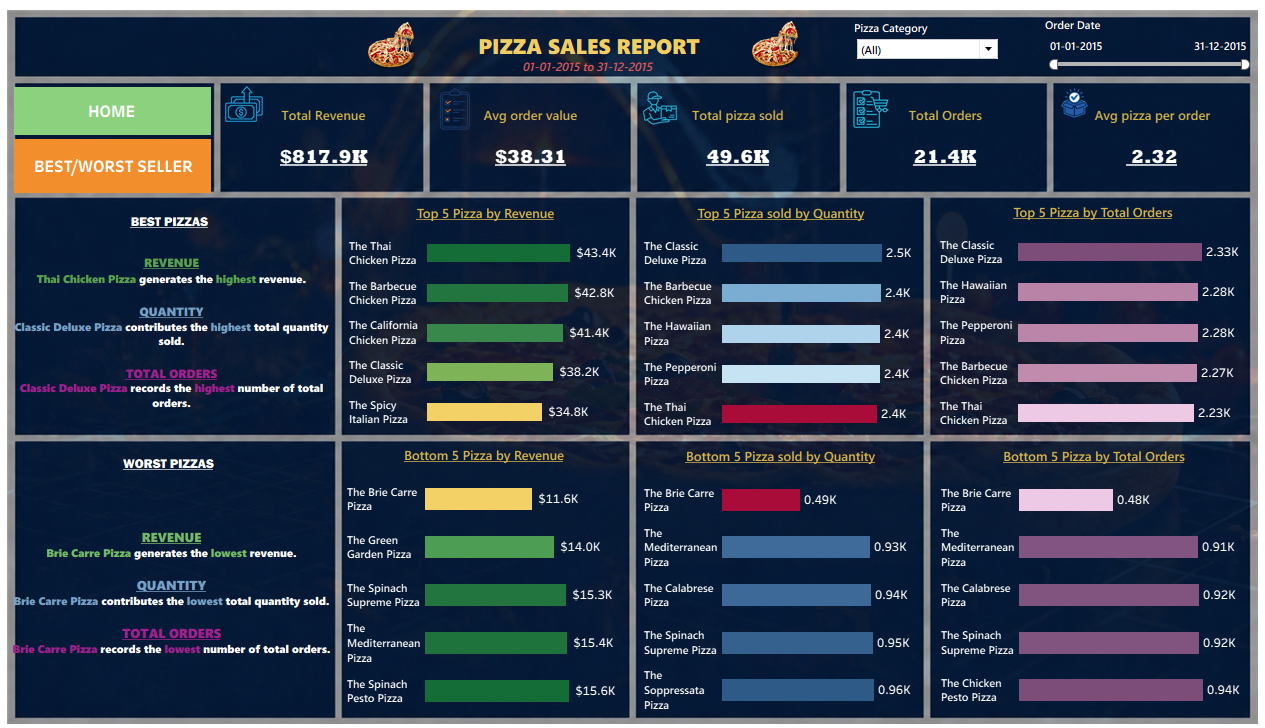

The dashboard page shown, as its layout file describes it:
{"tool":"powerbi","page":{"name":"BEST/WORST","canvas":[1500,820],"ordinal":1},"visuals":[{"type":"shape","box":[11.3,101.6,333.9,717.7],"z":0},{"type":"cardVisual","fields":{"Data":["pizza_sales.Total Revenue","pizza_sales.Total Orders","pizza_sales.Total pizza sold","pizza_sales.Avg order value","pizza_sales.Avg pizza per order"]},"box":[343.3,101.7,1143.3,205],"z":1000},{"type":"shape","box":[20,13.3,1460,83.3],"z":2000},{"type":"textbox","box":[513.3,26.7,471.7,55],"z":3000},{"type":"textbox","box":[628.3,60,243.3,41.7],"z":4000},{"type":"image","box":[524.2,27.4,72.6,53.2],"z":5000},{"type":"image","box":[911.3,27.4,72.6,53.2],"z":6000},{"type":"shape","box":[343.5,306.5,385.5,250],"z":7000},{"type":"textbox","box":[19.4,222.6,316.1,43.5],"z":8000},{"type":"textbox","box":[21,266.1,316.1,251.6],"z":9000},{"type":"textbox","box":[21,517.7,316.1,43.5],"z":10000},{"type":"textbox","box":[21,556.5,314.5,250],"z":11000},{"type":"slicer","fields":{"Values":["pizza_sales.pizza_category"]},"box":[985.5,19.4,217.7,69.4],"z":12000},{"type":"slicer","fields":{"Values":["pizza_sales.order_date"]},"box":[1214.5,12.9,254.8,83.9],"z":13000},{"type":"shape","box":[729,306.5,385.5,250],"z":14000},{"type":"shape","box":[1114.5,306.5,385.5,250],"z":15000},{"type":"shape","box":[343.5,556.5,385.5,250],"z":16000},{"type":"shape","box":[729,556.5,385.5,250],"z":17000},{"type":"shape","box":[1114.5,556.5,385.5,250],"z":18000},{"type":"barChart","title":"Top 5 Best-Seller by Revenue","fields":{"Category":["pizza_sales.pizza_name"],"Y":["pizza_sales.Total Revenue"]},"box":[356.2,321.2,358.8,221.2],"z":19000},{"type":"barChart","title":"Bottom 5 Seller by Revenue","fields":{"Category":["pizza_sales.pizza_name"],"Y":["pizza_sales.Total Revenue"]},"box":[356.9,571,358.4,221.7],"z":20000},{"type":"barChart","title":"Top 5 Pizzas by Quantity","fields":{"Category":["pizza_sales.pizza_name"],"Y":["pizza_sales.Total pizza sold"]},"box":[741.2,320,358.8,221.2],"z":21000},{"type":"barChart","title":"Bottom 5 Pizzas by Quantity","fields":{"Category":["pizza_sales.pizza_name"],"Y":["pizza_sales.Total pizza sold"]},"box":[741.2,570,358.8,221.2],"z":22000},{"type":"barChart","title":"Top 5 Pizzas by Total Order","fields":{"Category":["pizza_sales.pizza_name"],"Y":["pizza_sales.Total pizza sold"]},"box":[1127.5,321.2,358.8,221.2],"z":23000},{"type":"barChart","title":"Bottom 5 Pizzas by Total Order","fields":{"Category":["pizza_sales.pizza_name"],"Y":["pizza_sales.Total pizza sold"]},"box":[1128.8,571.2,358.8,221.2],"z":24000},{"type":"pageNavigator","box":[21.3,173.1,312.8,50.1],"z":24001},{"type":"pageNavigator","box":[21.3,123,312.8,50.1],"z":24002},{"type":"shape","box":[264.2,173.1,69.9,50.1],"z":24003}]}

Visuals, with their boxes on the page's 1500x820 design canvas (x1, y1, x2, y2). These are canvas units, not pixel positions in the 1265x728 screenshot, which may show the page scaled, cropped or inside an application window:
shape: bbox(11, 102, 345, 819)
cardVisual - pizza_sales.Total Revenue x pizza_sales.Total Orders: bbox(343, 102, 1487, 307)
shape: bbox(20, 13, 1480, 97)
textbox: bbox(513, 27, 985, 82)
textbox: bbox(628, 60, 872, 102)
image: bbox(524, 27, 597, 81)
image: bbox(911, 27, 984, 81)
shape: bbox(344, 306, 729, 556)
textbox: bbox(19, 223, 336, 266)
textbox: bbox(21, 266, 337, 518)
textbox: bbox(21, 518, 337, 561)
textbox: bbox(21, 556, 336, 806)
slicer - pizza_sales.pizza_category: bbox(986, 19, 1203, 89)
slicer - pizza_sales.order_date: bbox(1214, 13, 1469, 97)
shape: bbox(729, 306, 1114, 556)
shape: bbox(1114, 306, 1500, 556)
shape: bbox(344, 556, 729, 806)
shape: bbox(729, 556, 1114, 806)
shape: bbox(1114, 556, 1500, 806)
"Top 5 Best-Seller by Revenue" barChart: bbox(356, 321, 715, 542)
"Bottom 5 Seller by Revenue" barChart: bbox(357, 571, 715, 793)
"Top 5 Pizzas by Quantity" barChart: bbox(741, 320, 1100, 541)
"Bottom 5 Pizzas by Quantity" barChart: bbox(741, 570, 1100, 791)
"Top 5 Pizzas by Total Order" barChart: bbox(1128, 321, 1486, 542)
"Bottom 5 Pizzas by Total Order" barChart: bbox(1129, 571, 1488, 792)
pageNavigator: bbox(21, 173, 334, 223)
pageNavigator: bbox(21, 123, 334, 173)
shape: bbox(264, 173, 334, 223)
